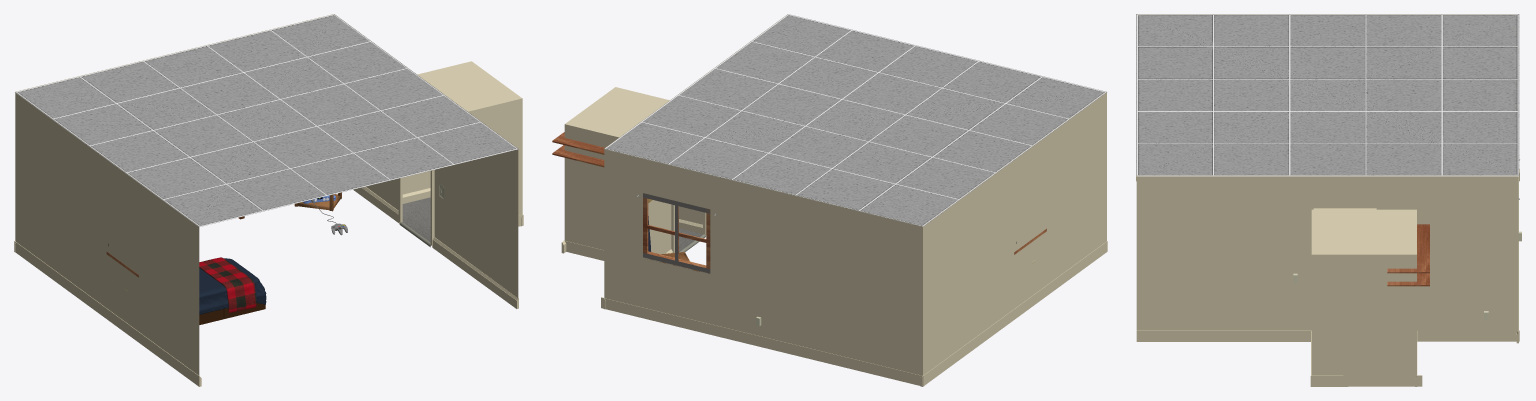
The model's file is Shell-transformed.glb.
3 views of the same model, side by side, from view 1: azimuth 30°, elevation 25°; view 2: azimuth 150°, elevation 25°; view 3: azimuth 270°, elevation 25° (orthographic). The views are drawn at different scales.
Parts seen in each view (by area): view 1: Cube.009; view 2: Cube.009; view 3: Cube.009.
Part boxes in pixels (x1,y1,x2,y2): Cube.009: (14, 14, 523, 386); Cube.009: (552, 14, 1107, 386); Cube.009: (1136, 14, 1521, 386).
Size of the model in its own units: 11.71 by 4.33 by 9.1.
61 materials, 17 textured.
